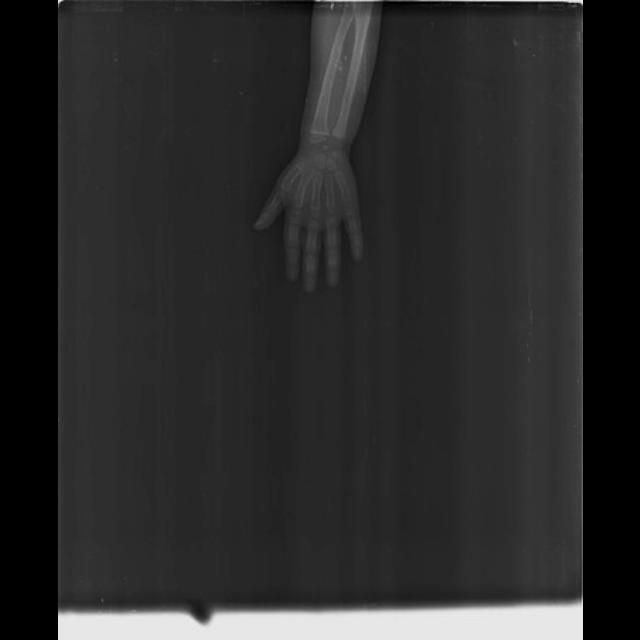Fracture: (327, 49, 341, 72)
